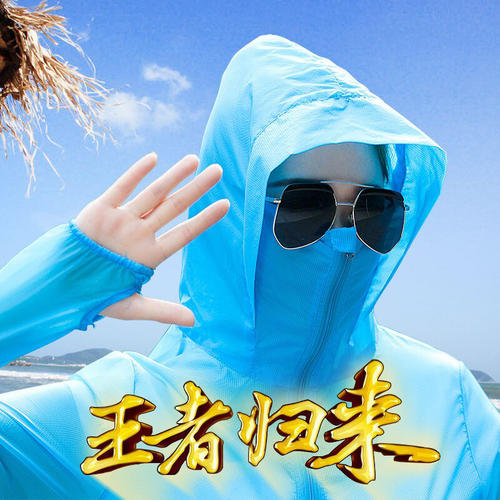yes_mask: (213, 35, 393, 372)
